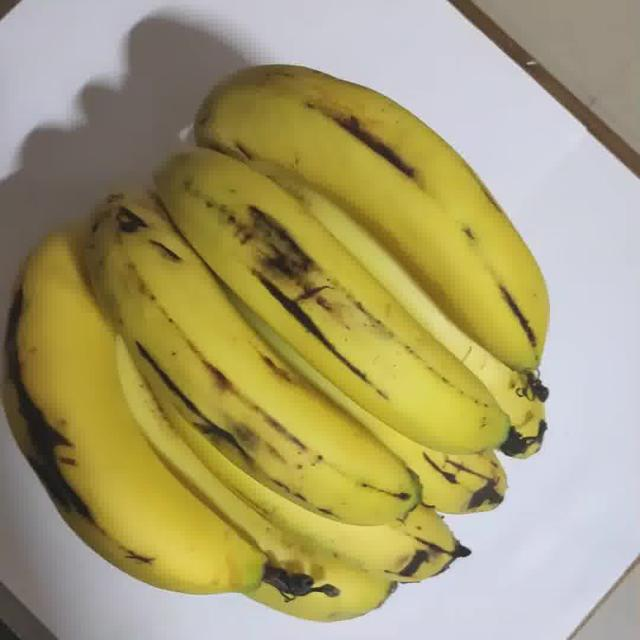banana_pacche: (0, 12, 615, 628)
